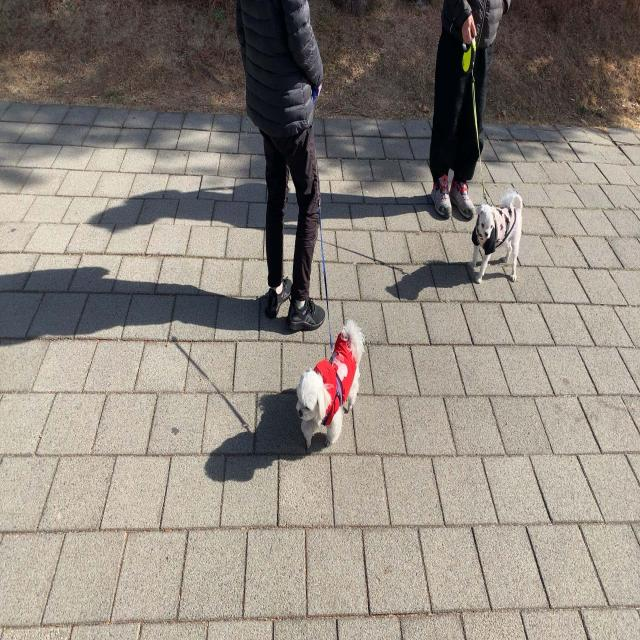Leashed_Dog: (295, 114, 366, 448), (448, 85, 523, 282)
